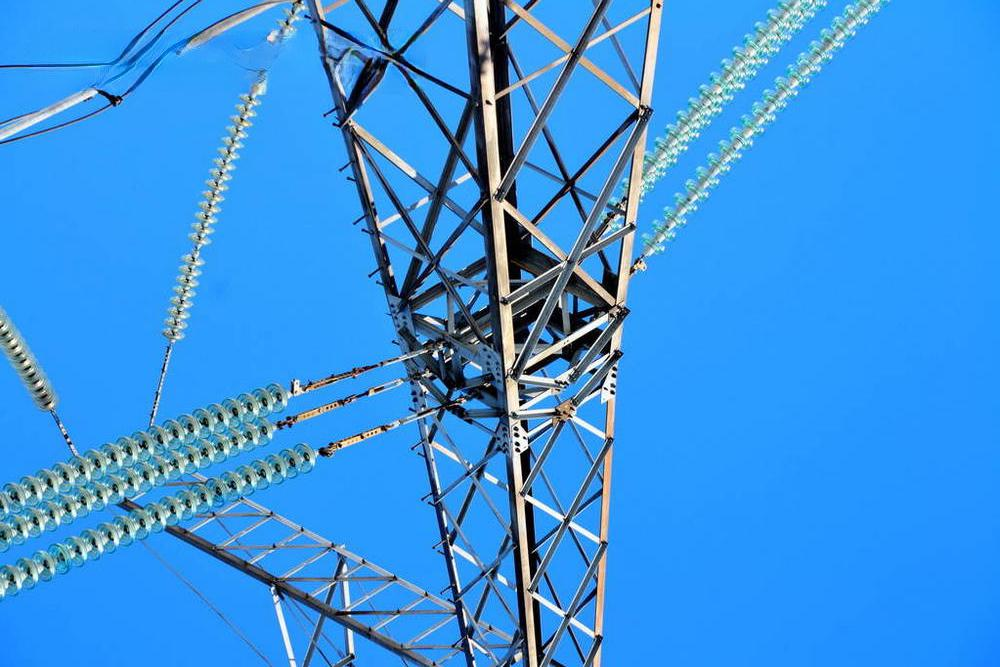insulator: (638, 1, 890, 259), (597, 1, 832, 234), (1, 439, 322, 606), (1, 379, 292, 521), (1, 412, 282, 557), (157, 91, 265, 349), (1, 301, 66, 415)
insulator_stringdrop: (178, 230, 214, 269)
